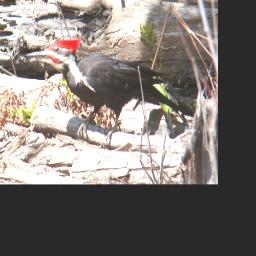Woodpecker: (23, 37, 194, 145)
